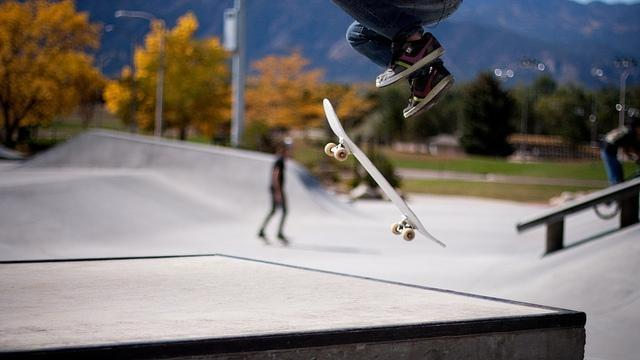bicycle: (593, 160, 640, 221)
